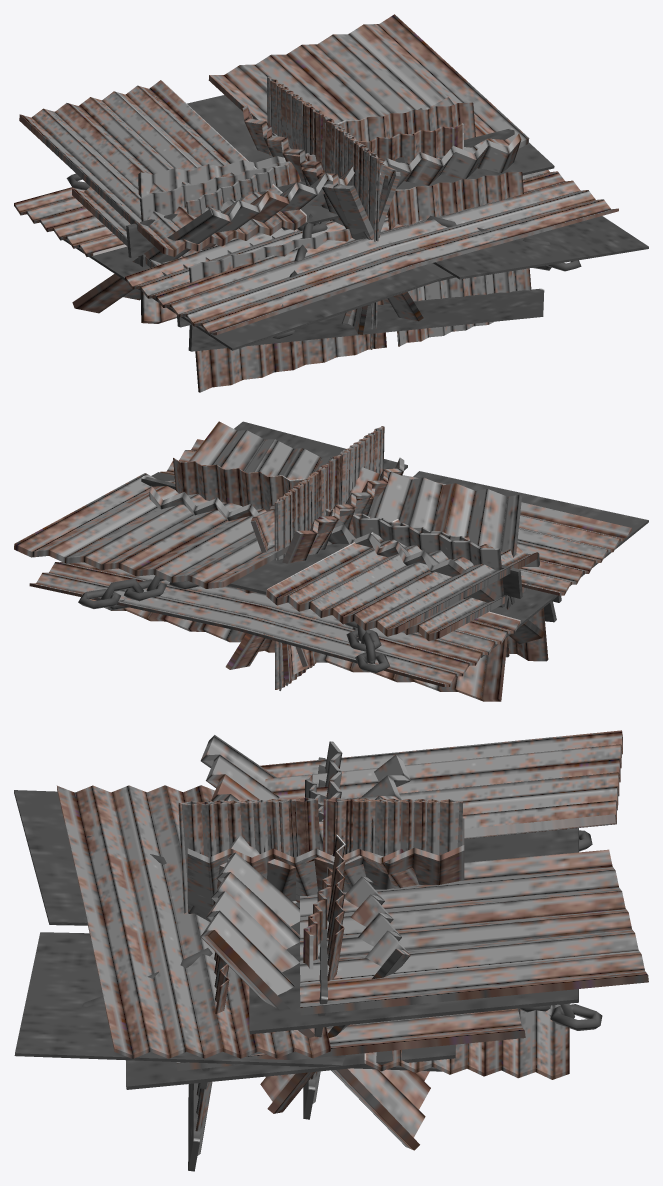
Rendered from Vehicles_CarNormal_Scrap_o.fbx.
3 views of the same model, one above another, from view 1: azimuth 30°, elevation 25°; view 2: azimuth 150°, elevation 25°; view 3: azimuth 270°, elevation 25° (orthographic). The views are drawn at different scales.
Parts seen in each view (by area): view 1: normal_scrap_trunk_armor, normal_scrap_hood_armor, normal_scrap_windshield_armor, normal_scrap_rear_bullbar_armor, normal_scrap_bullbar_armor, normal_scrap_front_left_door_armor, normal_scrap_rear_windshield_armor, normal_scrap_rear_left_door_armor, normal_scrap_rear_right_window_armor, normal_scrap_front_right_window_armor, normal_scrap_trunk_without_rear_bullbar_armor, normal_scrap_chain_roof_rack (+4 smaller); view 2: normal_scrap_trunk_armor, normal_scrap_hood_armor, normal_scrap_windshield_armor, normal_scrap_rear_bullbar_armor, normal_scrap_rear_windshield_armor, normal_scrap_front_left_door_armor, normal_scrap_chain_roof_rack, normal_scrap_front_right_window_armor, normal_scrap_rear_left_door_armor, normal_scrap_trunk_without_rear_bullbar_armor, normal_scrap_rear_right_window_armor, normal_scrap_front_right_door_armor (+4 smaller); view 3: normal_scrap_trunk_armor, normal_scrap_hood_armor, normal_scrap_windshield_armor, normal_scrap_trunk_without_rear_bullbar_armor, normal_scrap_front_right_door_armor, normal_scrap_rear_right_door_armor, normal_scrap_rear_windshield_armor, normal_scrap_front_left_window_armor, normal_scrap_rear_left_window_armor, normal_scrap_rear_bullbar_armor, normal_scrap_front_left_door_armor, normal_scrap_chain_roof_rack (+2 smaller).
Boxes of the visible parts, x1,y1,x2,y2 form: normal_scrap_trunk_armor: [19, 14, 554, 392]; normal_scrap_hood_armor: [14, 170, 648, 350]; normal_scrap_windshield_armor: [72, 133, 521, 313]; normal_scrap_rear_bullbar_armor: [126, 102, 514, 266]; normal_scrap_bullbar_armor: [186, 123, 463, 217]; normal_scrap_front_left_door_armor: [269, 76, 380, 348]; normal_scrap_rear_windshield_armor: [138, 97, 453, 323]; normal_scrap_rear_left_door_armor: [276, 82, 371, 209]; normal_scrap_rear_right_window_armor: [242, 105, 423, 321]; normal_scrap_front_right_window_armor: [267, 126, 390, 303]; normal_scrap_trunk_without_rear_bullbar_armor: [72, 187, 455, 281]; normal_scrap_chain_roof_rack: [66, 173, 581, 339]; normal_scrap_trunk_armor: [14, 472, 561, 661]; normal_scrap_hood_armor: [29, 421, 648, 686]; normal_scrap_windshield_armor: [89, 421, 521, 701]; normal_scrap_rear_bullbar_armor: [141, 458, 522, 657]; normal_scrap_rear_windshield_armor: [149, 486, 544, 644]; normal_scrap_front_left_door_armor: [274, 426, 382, 689]; normal_scrap_chain_roof_rack: [78, 519, 545, 673]; normal_scrap_front_right_window_armor: [225, 457, 404, 669]; normal_scrap_rear_left_door_armor: [282, 433, 375, 669]; normal_scrap_trunk_without_rear_bullbar_armor: [235, 582, 531, 640]; normal_scrap_rear_right_window_armor: [259, 488, 375, 651]; normal_scrap_front_right_door_armor: [276, 426, 384, 690]; normal_scrap_trunk_armor: [188, 730, 648, 1171]; normal_scrap_hood_armor: [14, 785, 569, 1079]; normal_scrap_windshield_armor: [200, 735, 430, 1150]; normal_scrap_trunk_without_rear_bullbar_armor: [126, 1008, 525, 1089]; normal_scrap_front_right_door_armor: [178, 798, 462, 881]; normal_scrap_rear_right_door_armor: [201, 798, 444, 857]; normal_scrap_rear_windshield_armor: [260, 754, 410, 1113]; normal_scrap_front_left_window_armor: [187, 848, 418, 914]; normal_scrap_rear_left_window_armor: [188, 845, 464, 921]; normal_scrap_rear_bullbar_armor: [303, 741, 345, 1119]; normal_scrap_front_left_door_armor: [178, 797, 462, 913]; normal_scrap_chain_roof_rack: [82, 830, 602, 1030].
Size of the model in its own units: 0.8278 by 0.376 by 0.8132.
